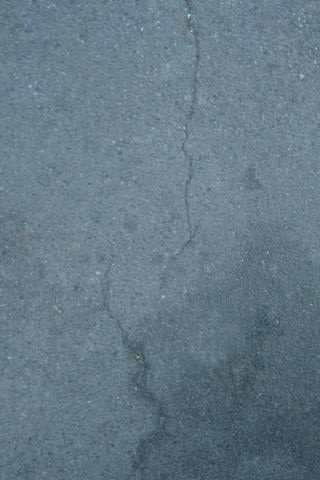A: (100, 261, 167, 477), (171, 4, 205, 249)
